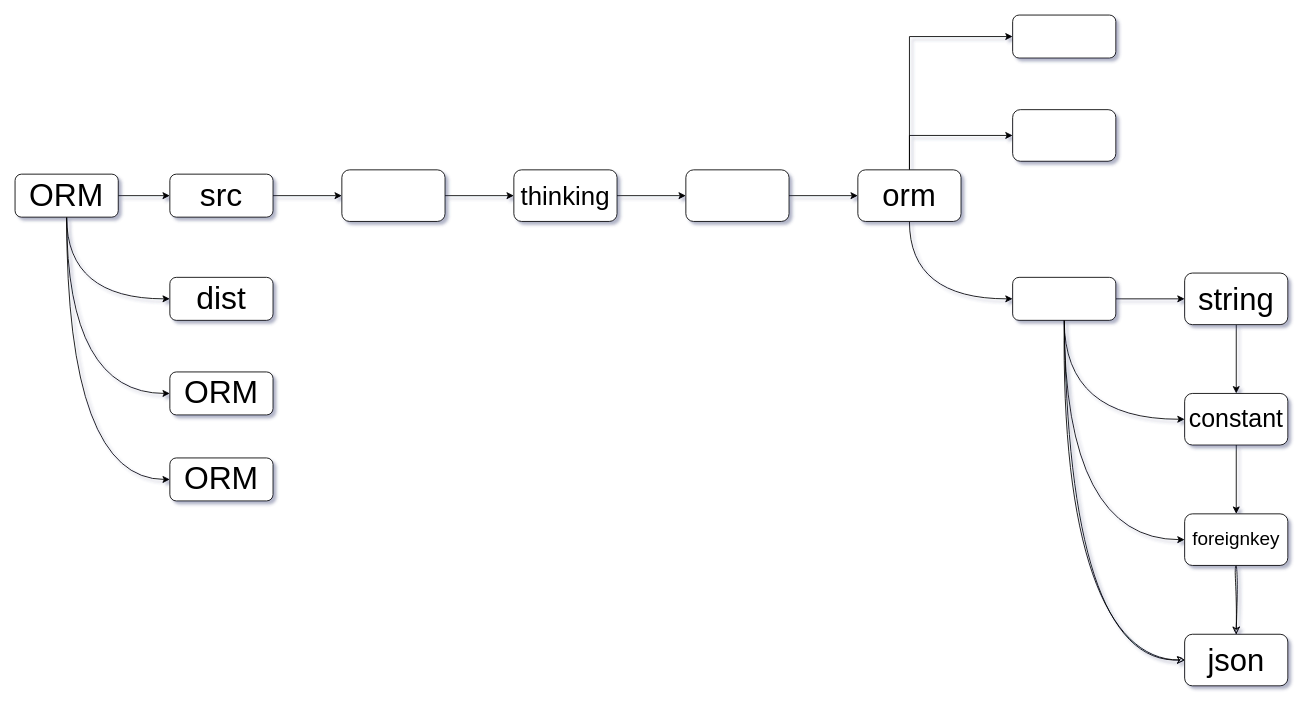
Some shapes in this 1308 by 706 pixel diagram are drawn without their labels. Here are the shapes that lost their labels. From the top down, the box of each, then its label:
(1012, 14, 1116, 58): exception
(1012, 109, 1116, 161): annotation
(341, 169, 445, 221): com
(685, 169, 789, 221): machines
(1012, 276, 1116, 320): util
